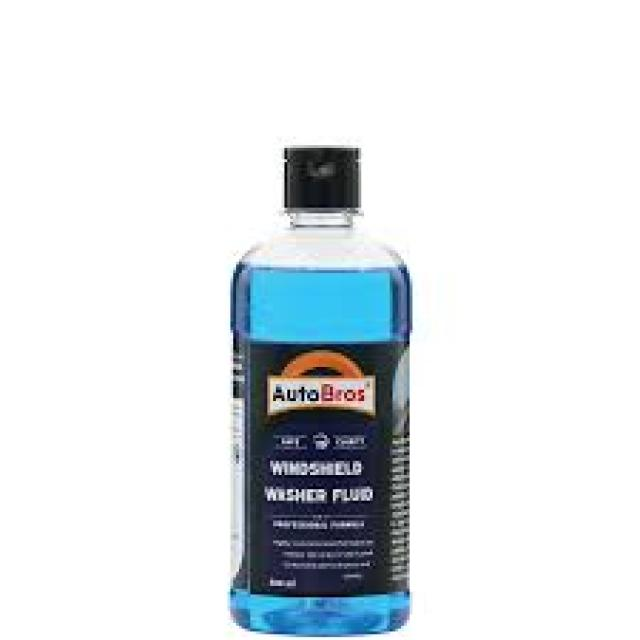winwinshield_washer: (225, 136, 414, 639)
